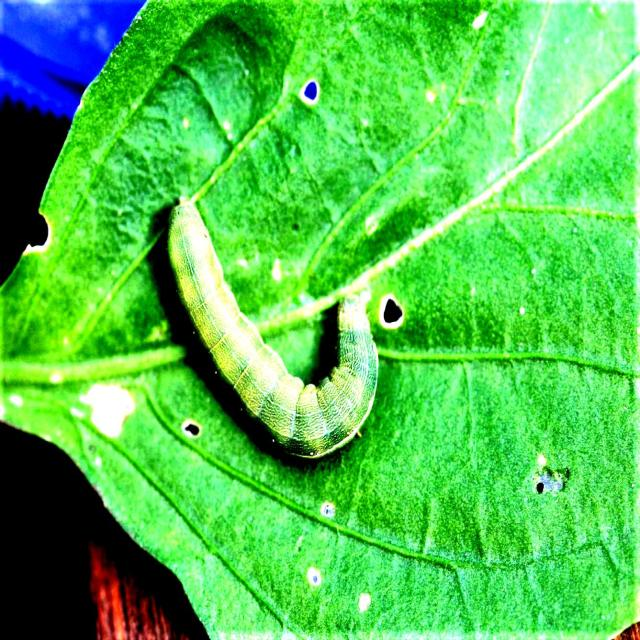armyworm: (166, 198, 380, 460)
